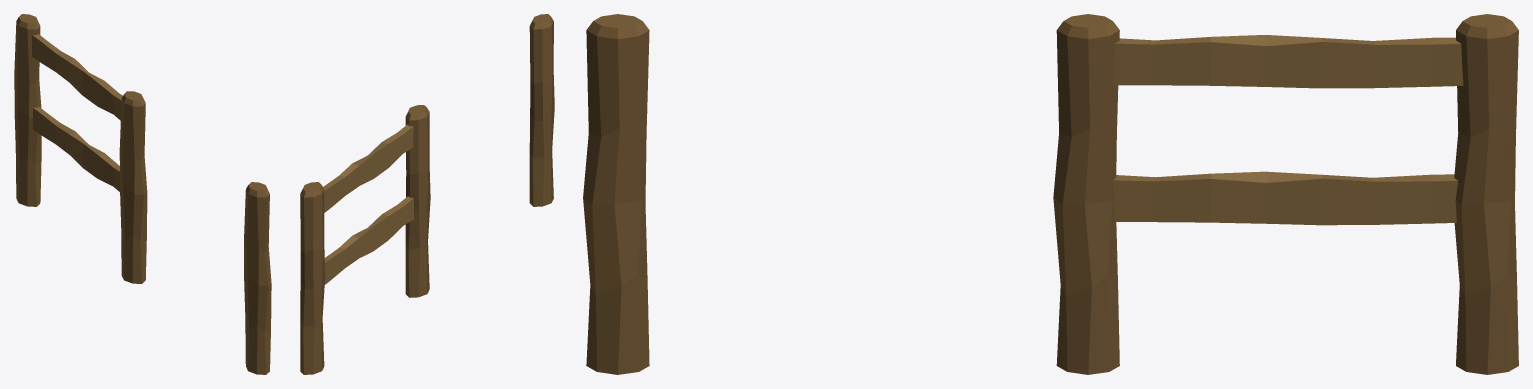
The model's file is FenceSmall.fbx.
3 views of the same model, side by side, from view 1: azimuth 30°, elevation 25°; view 2: azimuth 150°, elevation 25°; view 3: azimuth 270°, elevation 25° (orthographic). The views are drawn at different scales.
Parts seen in each view (by area): view 1: Cube.114; view 2: Cube.114; view 3: Cube.114.
Boxes of the visible parts, box(x1,y1,x2,y2) form: Cube.114: box(14, 14, 271, 374); Cube.114: box(300, 14, 554, 374); Cube.114: box(583, 14, 1518, 374).
Size of the model in its own units: 16.21 by 131 by 323.
